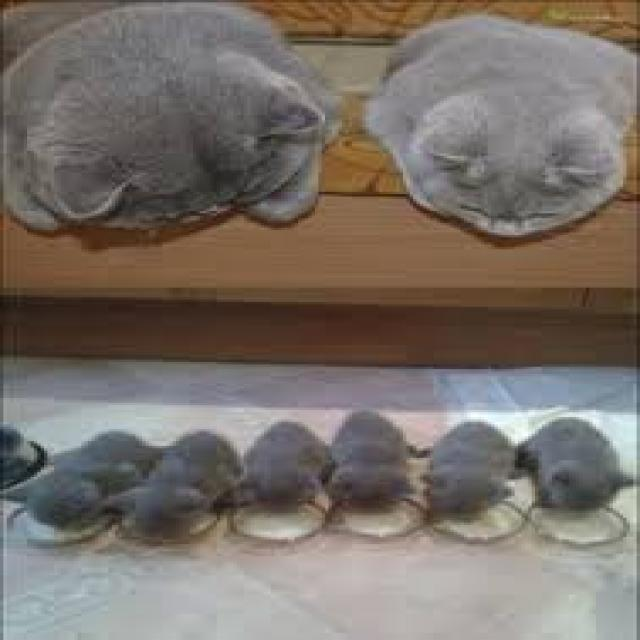Cat: (0, 3, 348, 240), (368, 21, 640, 246), (103, 417, 241, 552), (5, 418, 151, 533), (511, 415, 640, 519), (422, 418, 519, 521), (328, 407, 417, 513), (245, 416, 325, 512)
